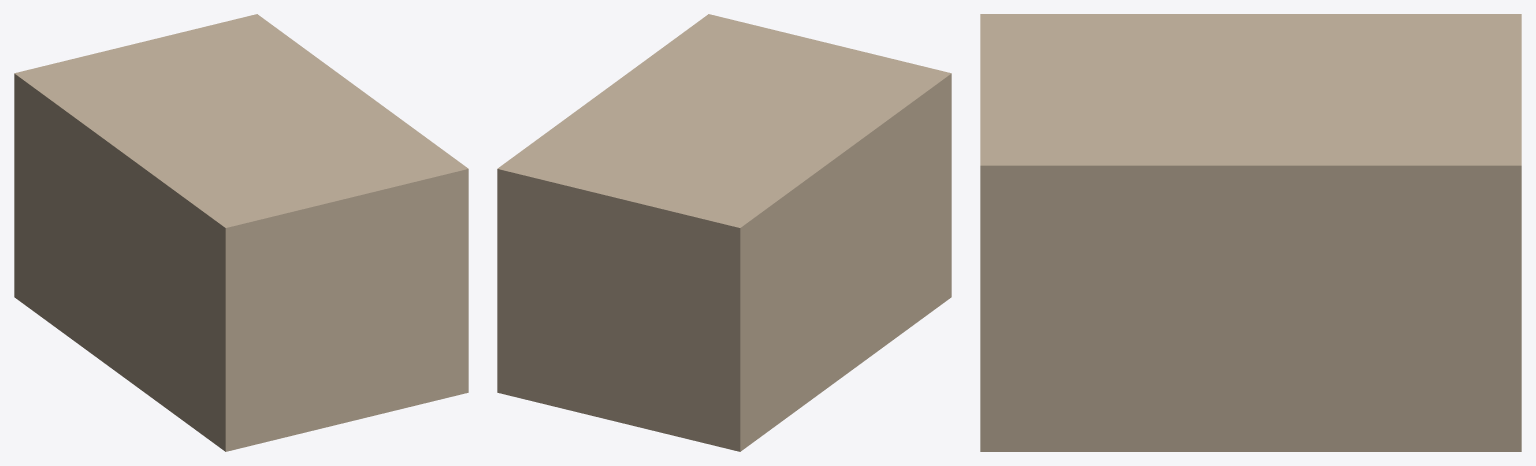
Rendered from massing.glb.
3 renders of one model, left to right at view 1: azimuth 30°, elevation 25°; view 2: azimuth 150°, elevation 25°; view 3: azimuth 270°, elevation 25°, orthographic. The views are drawn at different scales.
Parts seen in each view (by area): view 1: building/exterior; view 2: building/exterior; view 3: building/exterior.
Part boxes in pixels (x1,y1,x2,y2): building/exterior: (14,14,468,451); building/exterior: (497,14,951,451); building/exterior: (980,14,1521,451).
Bounding box in the file's own units: 10 × 8.8 × 15.07.
